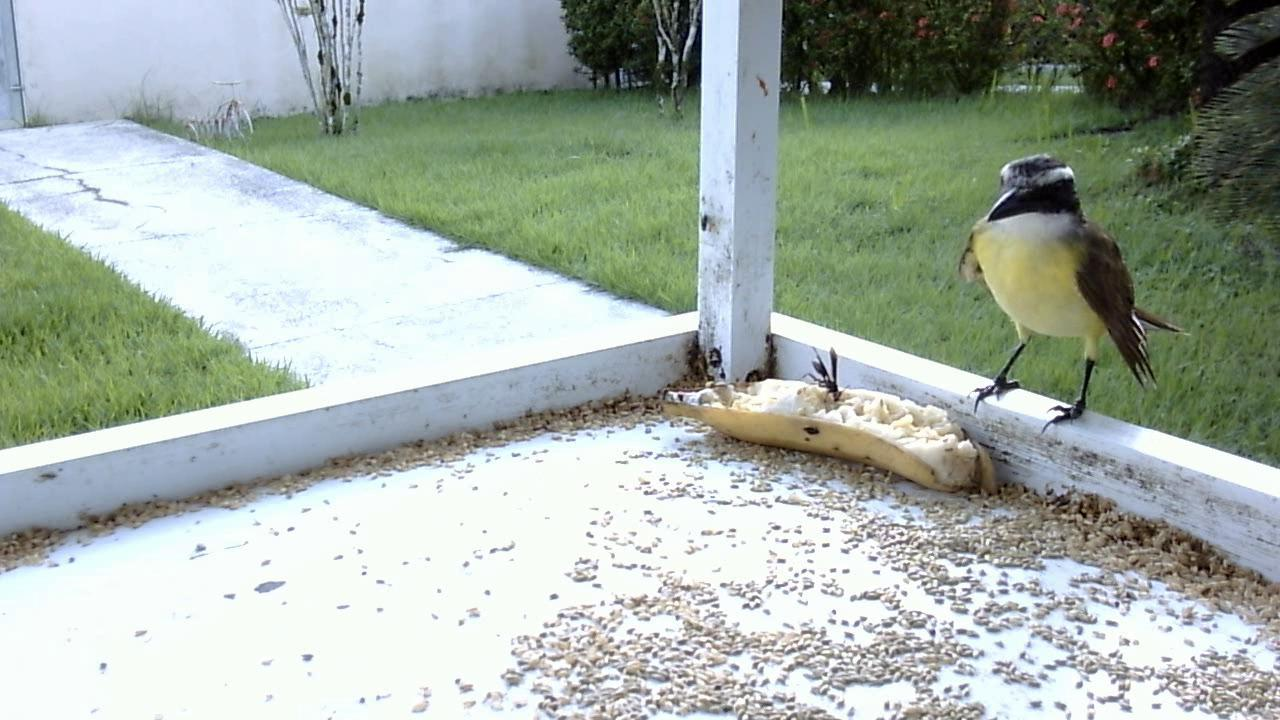bem_te_vi: (948, 149, 1191, 445)
